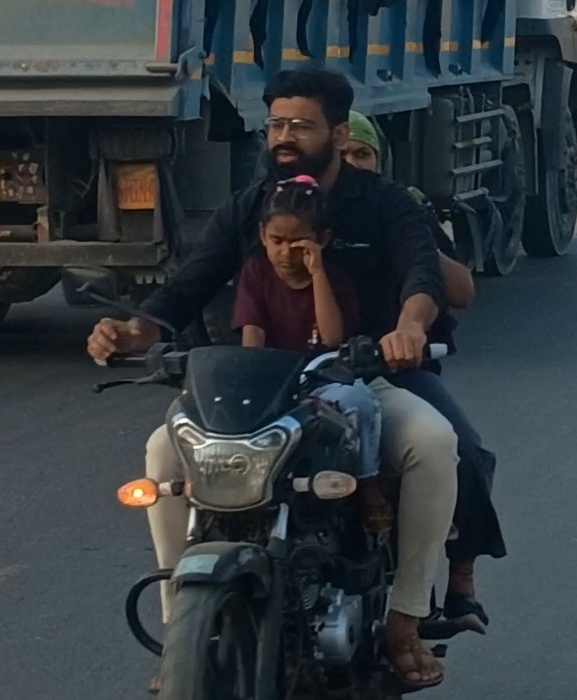BikeWithRider: (74, 55, 526, 698)
NoHelmet: (256, 64, 355, 179), (251, 175, 333, 282), (323, 108, 394, 188)
